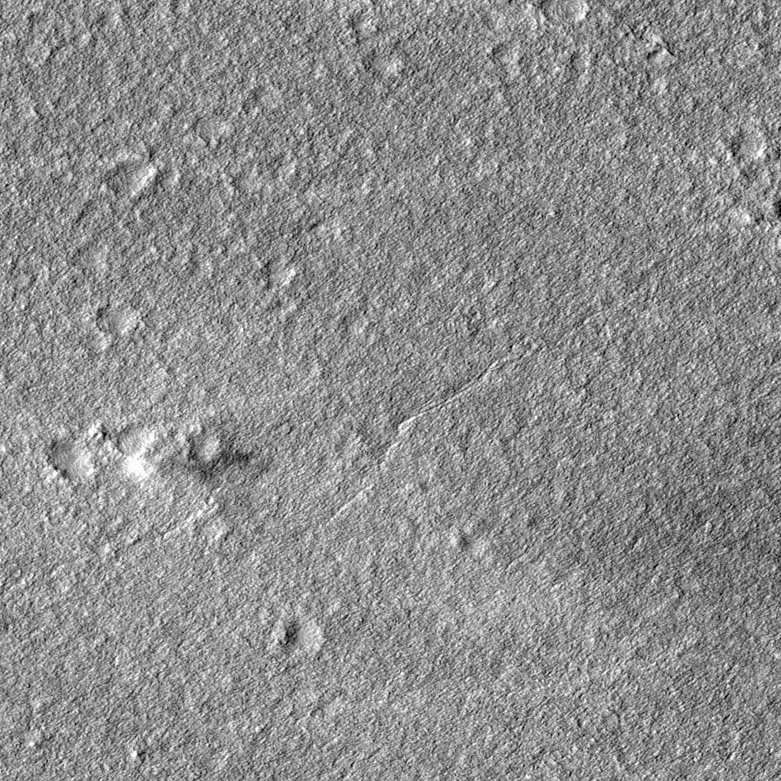dust_devil: (121, 448, 258, 485)
